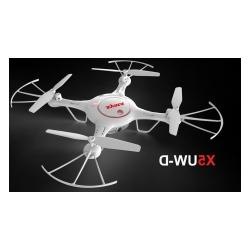drone: (11, 59, 224, 188)
